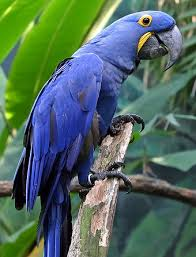guacamaya: (8, 7, 184, 257)
